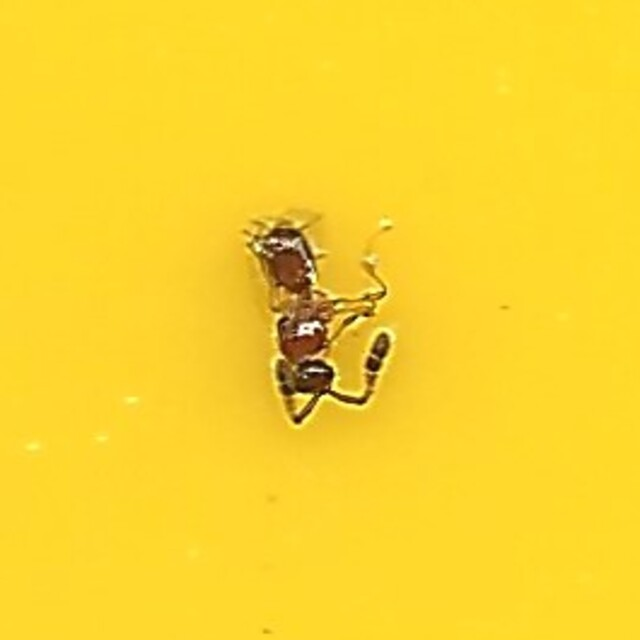Hymenoptera: (242, 211, 398, 429)
